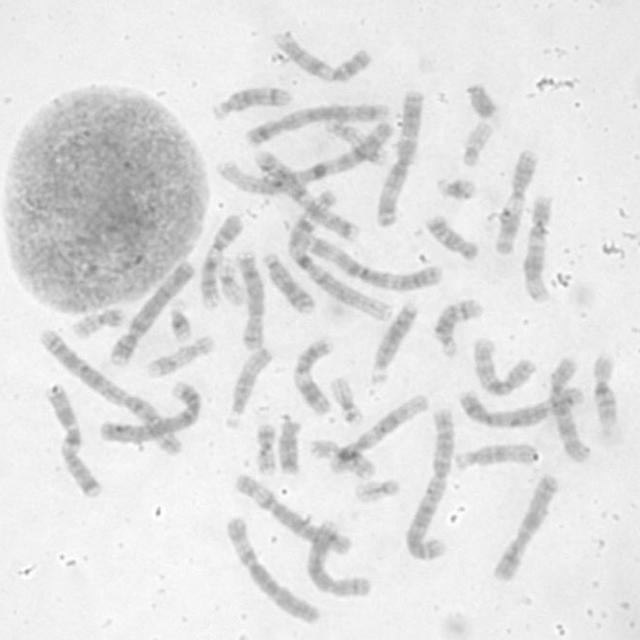A1: (286, 182, 399, 324), (210, 116, 396, 198)
A2: (35, 325, 190, 456), (402, 405, 457, 562)
A3: (295, 230, 441, 293), (372, 88, 423, 230)
B4: (105, 257, 197, 367), (95, 378, 204, 447)
B5: (243, 99, 389, 148), (456, 381, 587, 429)
C10: (546, 354, 593, 464), (469, 333, 537, 398)
C11: (492, 146, 540, 256), (290, 335, 336, 416)
C12: (325, 392, 429, 479), (517, 192, 554, 306)
C6: (222, 513, 323, 625), (229, 471, 355, 556)
C7: (250, 145, 360, 242), (42, 382, 104, 500)
C8: (304, 514, 372, 598), (231, 248, 266, 350)
C9: (268, 26, 373, 85), (197, 213, 243, 309)
D13: (368, 298, 420, 384), (259, 249, 317, 315)
D14: (206, 83, 292, 122), (430, 296, 483, 358)
D15: (222, 345, 274, 429), (451, 439, 539, 472)
E16: (304, 436, 377, 480), (589, 350, 622, 430)
E17: (142, 332, 217, 381), (322, 117, 389, 168)
E18: (421, 212, 481, 262), (274, 413, 304, 474)
F19: (326, 373, 362, 425), (216, 256, 246, 308)
F20: (68, 305, 126, 341), (252, 420, 278, 476)
G21: (165, 300, 194, 344), (433, 174, 477, 203)
G22: (459, 118, 493, 167), (352, 475, 402, 505)
X: (489, 470, 560, 583)
Y: (463, 79, 499, 121)
